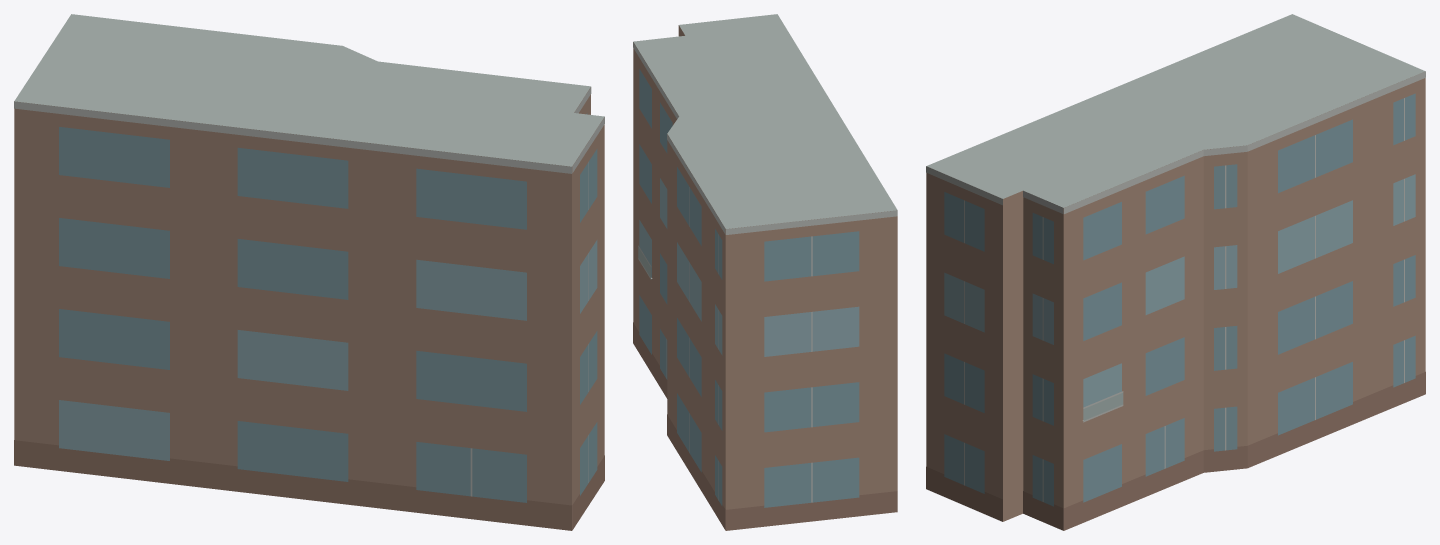
File: residential-93fce293-28c6-44df-820f-058d9aeade07.glb
The picture shows the model from 3 angles, left to right: view 1: azimuth 30°, elevation 25°; view 2: azimuth 150°, elevation 25°; view 3: azimuth 270°, elevation 25°; orthographic projection. The views are drawn at different scales.
Parts seen in each view (by area): view 1: residential-93fce293-28c6-44df-820f-058d9aeade07.tmp; view 2: residential-93fce293-28c6-44df-820f-058d9aeade07.tmp; view 3: residential-93fce293-28c6-44df-820f-058d9aeade07.tmp.
Part boxes in pixels (x1,y1,x2,y2): residential-93fce293-28c6-44df-820f-058d9aeade07.tmp: [14, 14, 604, 530]; residential-93fce293-28c6-44df-820f-058d9aeade07.tmp: [633, 14, 897, 530]; residential-93fce293-28c6-44df-820f-058d9aeade07.tmp: [926, 14, 1425, 530].
Bounding box in the file's own units: 15.72 × 12.2 × 17.11.
